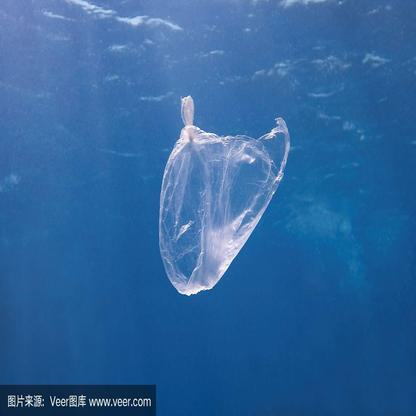plastic bag: (157, 94, 290, 296)
